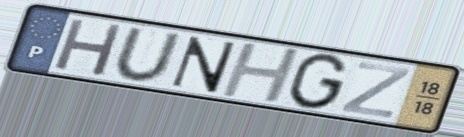G: (284, 52, 351, 112)
H: (217, 41, 304, 105), (50, 16, 128, 79)
N: (167, 34, 241, 95)
U: (112, 25, 184, 85)
Z: (337, 60, 415, 121)
